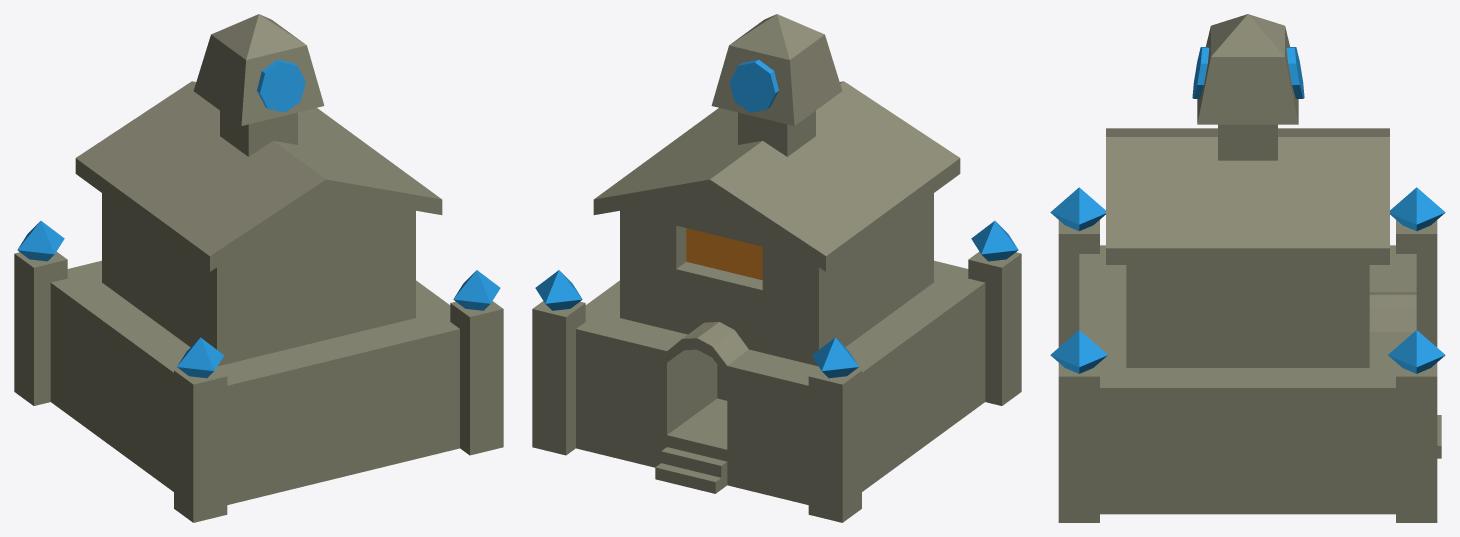
Rendered from hall.glb.
The picture shows the model from 3 angles, left to right: view 1: azimuth 30°, elevation 25°; view 2: azimuth 150°, elevation 25°; view 3: azimuth 270°, elevation 25°; orthographic projection. The views are drawn at different scales.
Visible parts, largest first — view 1: Wall1, CyanLamp; view 2: Wall1, CyanLamp, AmberLamp; view 3: Wall1, CyanLamp.
Boxes of the visible parts, x1,y1,x2,y2 form: Wall1: (14,14,503,522); CyanLamp: (17,59,500,378); Wall1: (532,14,1021,522); CyanLamp: (535,59,1018,378); AmberLamp: (686,228,762,280); Wall1: (1058,14,1441,522); CyanLamp: (1050,47,1445,373).
Size of the model in its own units: 1.58 by 1.89 by 1.58.
